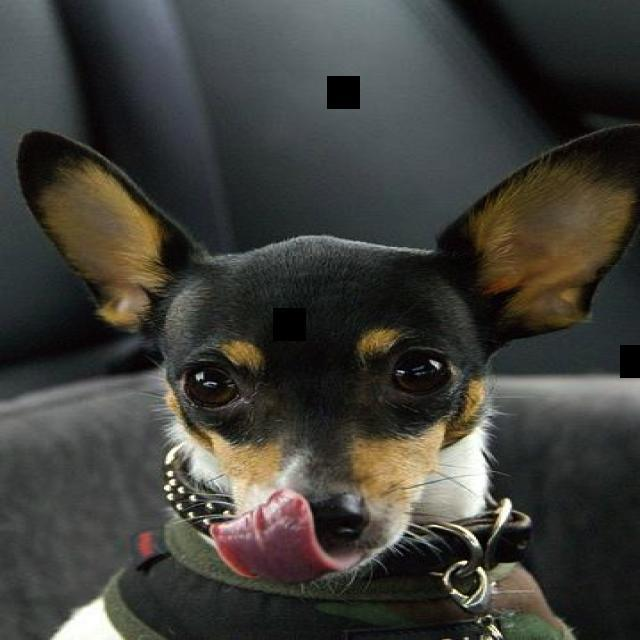adult_dog: (12, 118, 640, 640)
